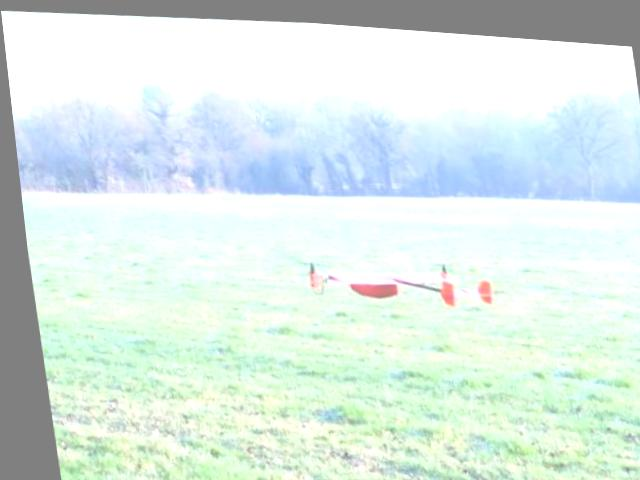uav: (319, 246, 490, 306)
